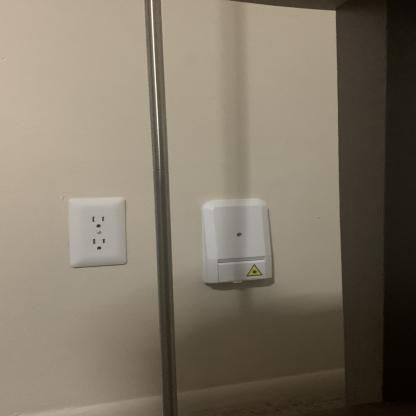OUTLET: (68, 197, 124, 263)
